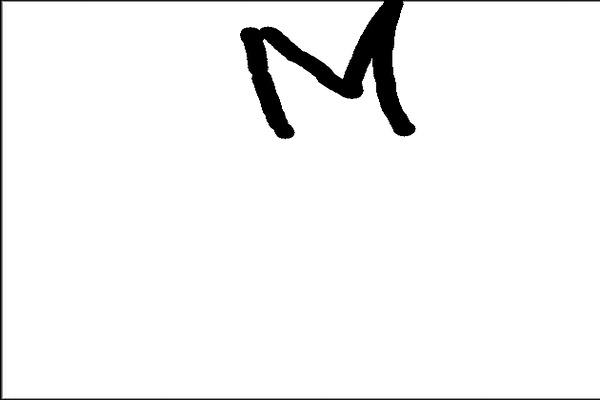M: (237, 0, 418, 142)
